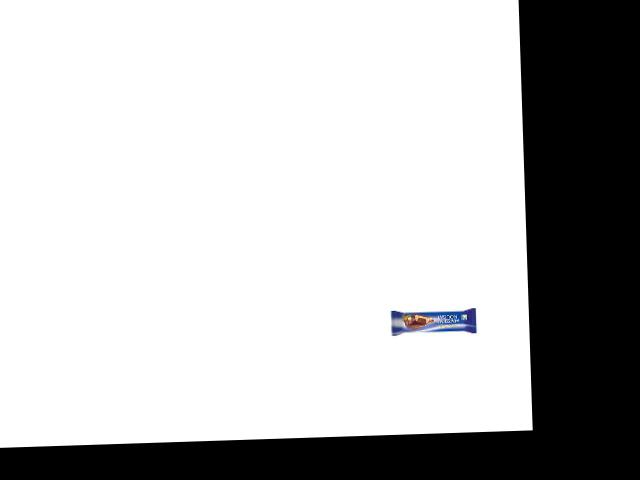chocolate: (379, 299, 478, 337)
